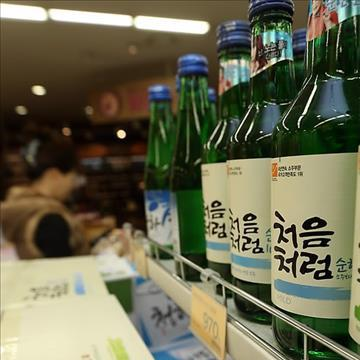soju: (143, 1, 358, 360)
